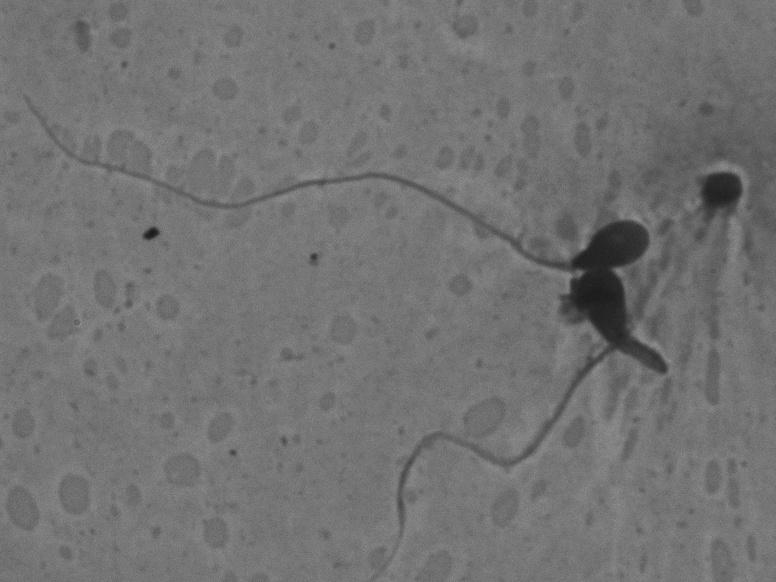Abnormal: (5, 79, 661, 283), (343, 265, 684, 561)
